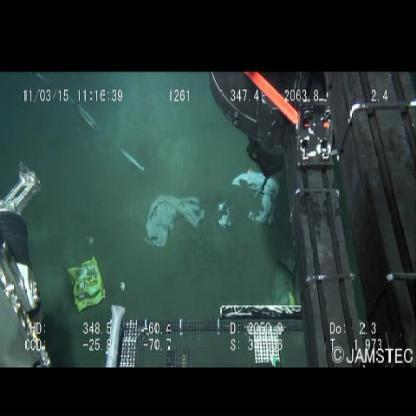Rác: (67, 257, 106, 315), (218, 204, 230, 228)
